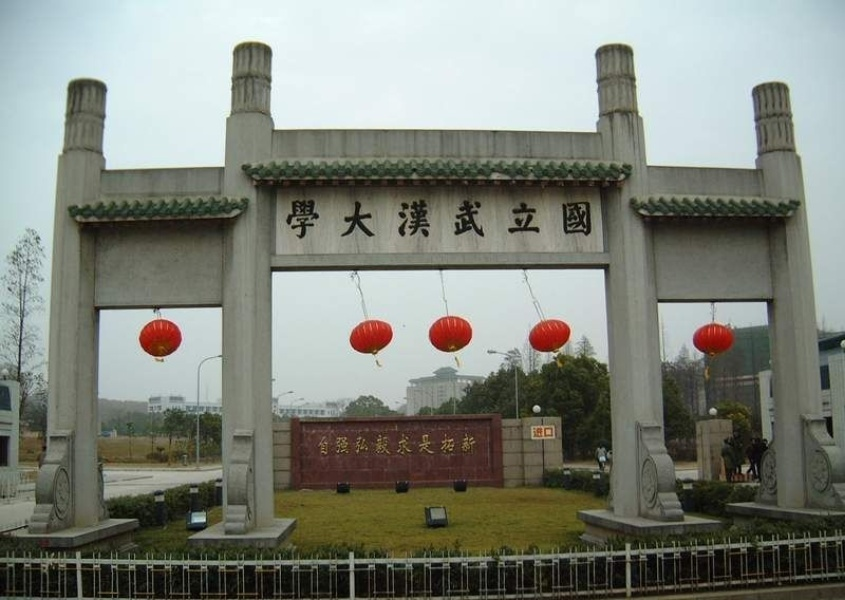text: (577, 198, 593, 238), (289, 198, 304, 238), (305, 198, 320, 238), (321, 198, 336, 238), (337, 198, 352, 238), (353, 198, 368, 238), (369, 198, 384, 238), (385, 198, 400, 238), (401, 198, 416, 238), (417, 198, 432, 238), (433, 198, 448, 238), (449, 198, 464, 238), (465, 198, 480, 238), (481, 198, 496, 238), (497, 198, 512, 238), (513, 198, 528, 238), (529, 198, 544, 238), (545, 198, 560, 238), (561, 198, 576, 238), (321, 434, 336, 456), (337, 434, 352, 456), (353, 434, 368, 456), (369, 434, 384, 456), (385, 434, 400, 456), (401, 434, 416, 456), (417, 434, 432, 456), (433, 434, 448, 456), (449, 434, 464, 456), (465, 434, 476, 456), (533, 427, 544, 438), (285, 198, 288, 238), (315, 434, 320, 456), (545, 427, 554, 438)
